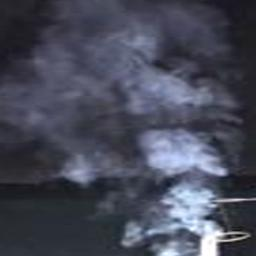smoke: (1, 0, 250, 255)
